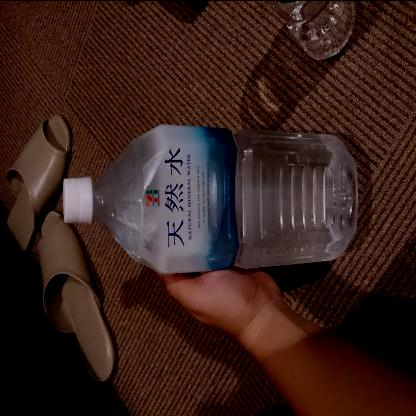bottle: (58, 120, 368, 274)
